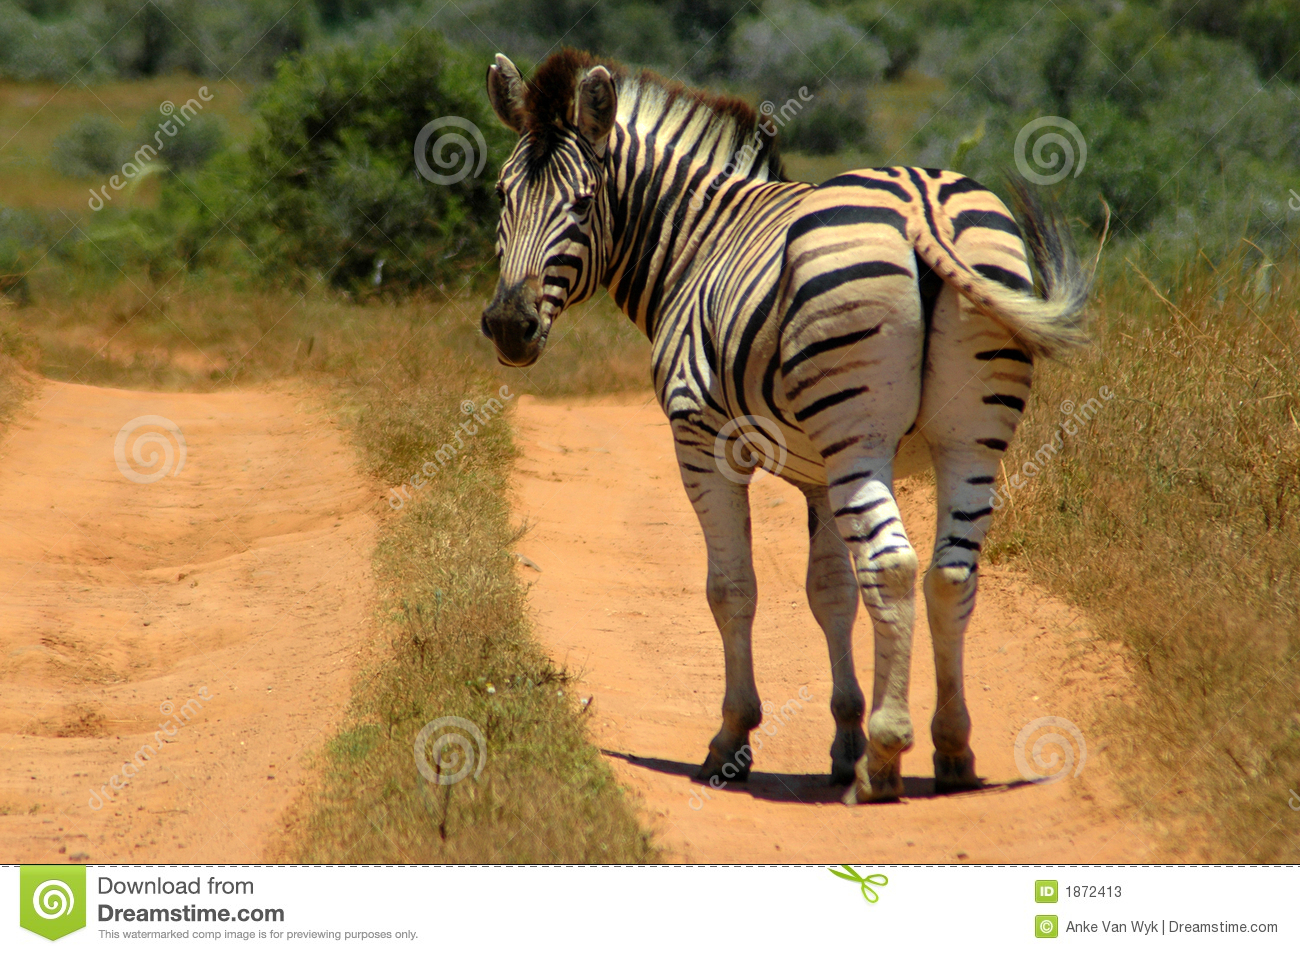zebra: (476, 52, 1047, 799)
